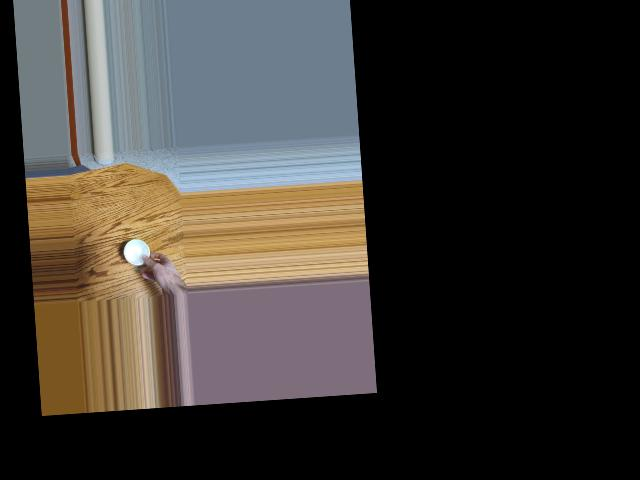cotage: (124, 238, 154, 268)
